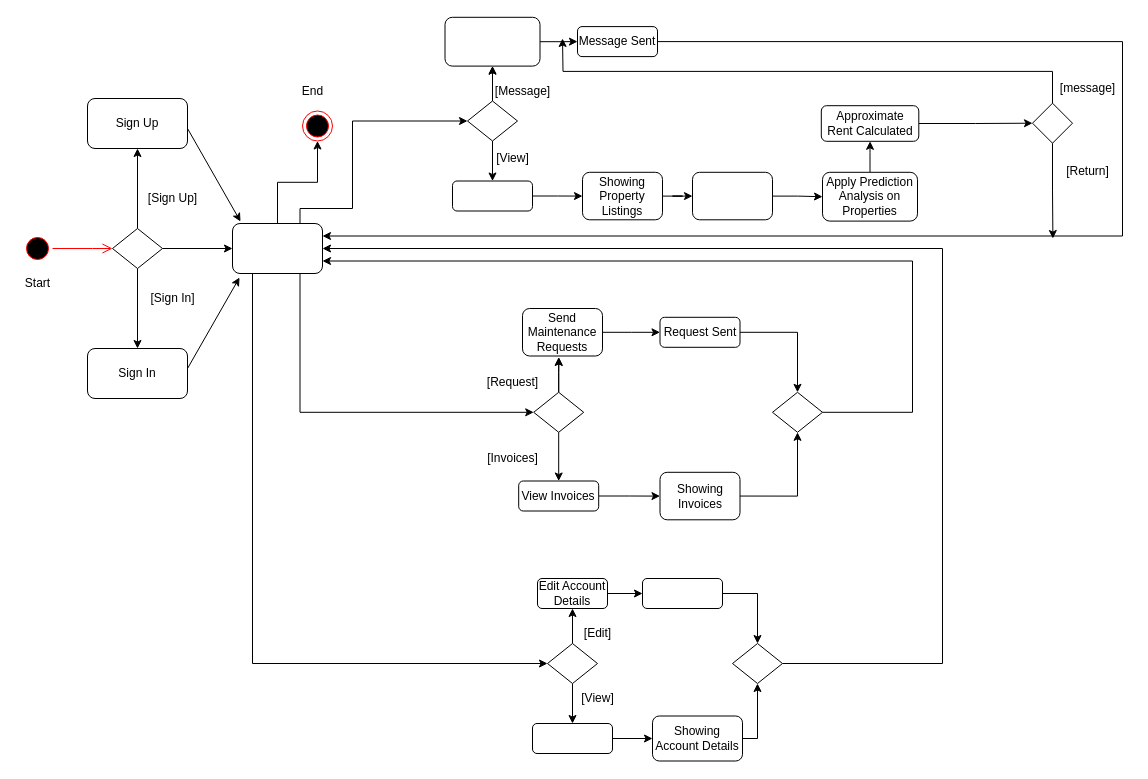
The diagram is 1148 pixels wide and 779 high, and some of its shapes have lost their labels. The shapes that lost their labels are listed below. From the top down, each one's box as (x1, y1, x2, y2) in pixels, then its label:
(444, 16, 540, 66): Message Land Lords or Adminsitrator
(452, 180, 532, 211): View Properties
(692, 171, 772, 220): Select Property
(232, 222, 322, 274): Tenant Dashboard
(642, 578, 722, 608): Details Edited
(532, 722, 612, 754): View Account Details
